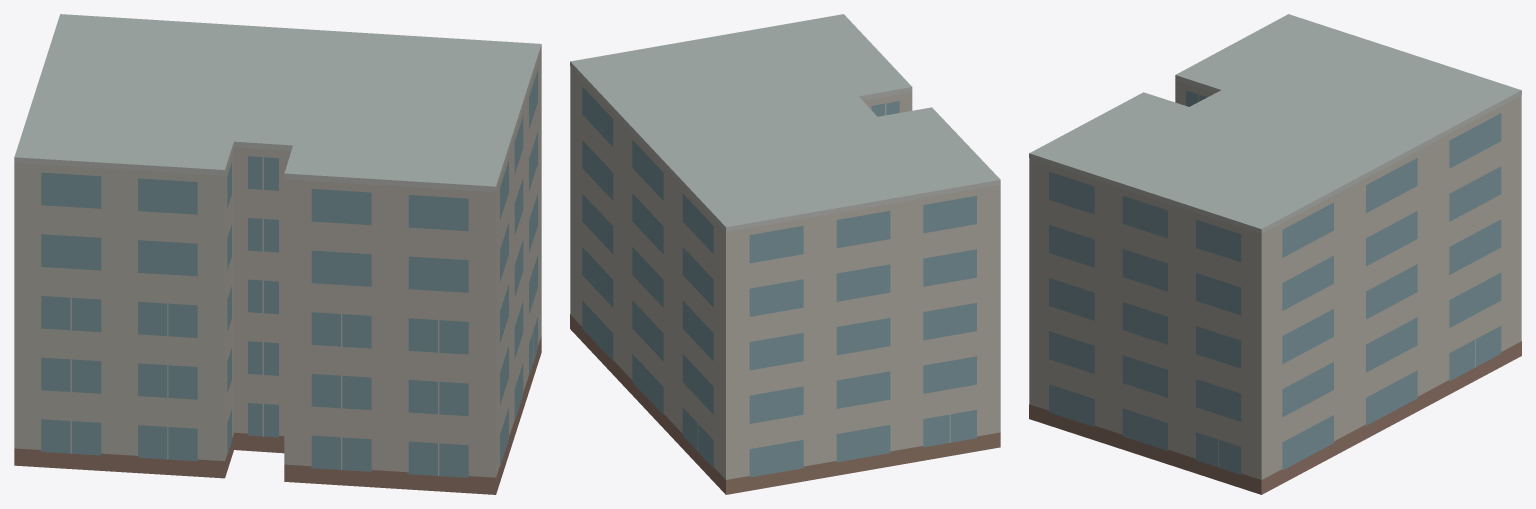
The model's file is survey-upis-32882573.glb.
The picture shows the model from 3 angles, left to right: view 1: azimuth 30°, elevation 25°; view 2: azimuth 150°, elevation 25°; view 3: azimuth 270°, elevation 25°; orthographic projection. The views are drawn at different scales.
Parts seen in each view (by area): view 1: survey-upis-32882573.tmp; view 2: survey-upis-32882573.tmp; view 3: survey-upis-32882573.tmp.
Boxes of the visible parts, <box> form: survey-upis-32882573.tmp: <box>14,14,541,494</box>; survey-upis-32882573.tmp: <box>570,14,1000,494</box>; survey-upis-32882573.tmp: <box>1029,14,1521,494</box>.
Size of the model in its own units: 23.19 by 13.35 by 22.44.
